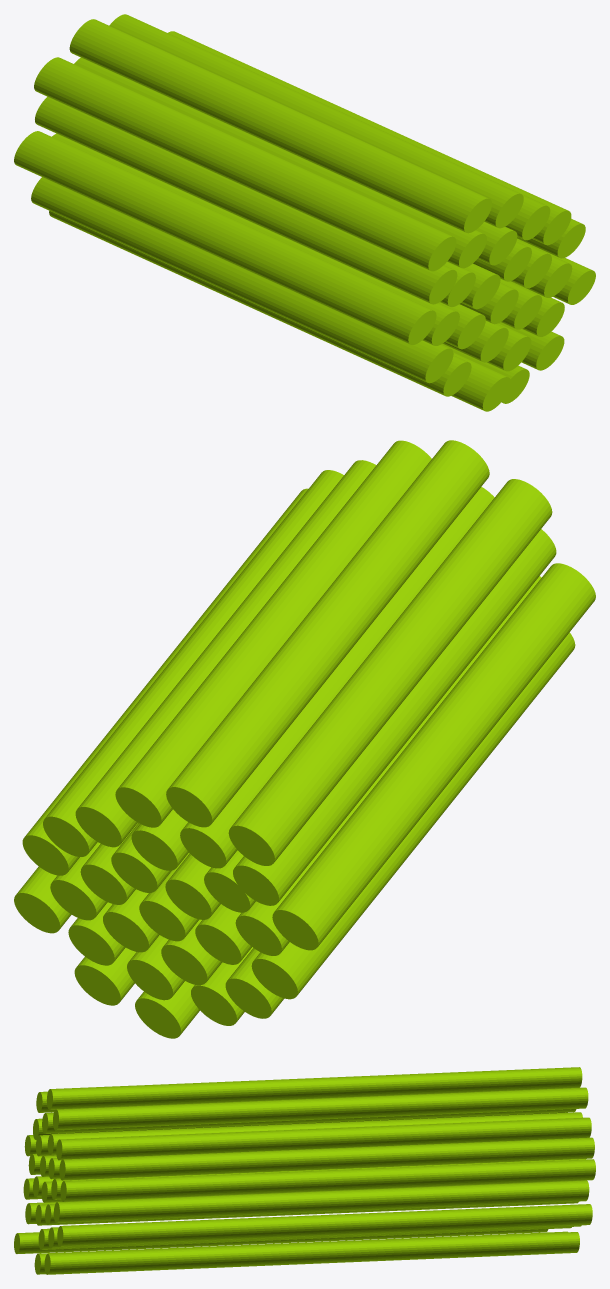
File: centrioles.dae
The picture shows the model from 3 angles, top to bottom: view 1: azimuth 30°, elevation 25°; view 2: azimuth 150°, elevation 25°; view 3: azimuth 270°, elevation 25°; orthographic projection. The views are drawn at different scales.
Visible parts, largest first — view 1: Cylinder_026, Cylinder_020, Cylinder_025, Cylinder_019, Cylinder_007, Cylinder_024, Cylinder_018, Cylinder_001, Cylinder_008, Cylinder_022, Cylinder, Cylinder_012 (+16 smaller); view 2: Cylinder_025, Cylinder_026, Cylinder_020, Cylinder_024, Cylinder_019, Cylinder_021, Cylinder_022, Cylinder_018, Cylinder_007, Cylinder_023, Cylinder_008, Cylinder_011 (+16 smaller); view 3: Cylinder_012, Cylinder_027, Cylinder_022, Cylinder_023, Cylinder_024, Cylinder_017, Cylinder_025, Cylinder_021, Cylinder_016, Cylinder, Cylinder_018, Cylinder_004 (+5 smaller).
Part boxes in pixels (x1=…): Cylinder_026: x1=34, y1=57, x2=456, y2=271; Cylinder_020: x1=14, y1=131, x2=436, y2=344; Cylinder_025: x1=69, y1=19, x2=492, y2=233; Cylinder_019: x1=35, y1=97, x2=457, y2=304; Cylinder_007: x1=31, y1=177, x2=453, y2=383; Cylinder_024: x1=109, y1=14, x2=523, y2=228; Cylinder_018: x1=74, y1=57, x2=486, y2=268; Cylinder_001: x1=49, y1=211, x2=471, y2=396; Cylinder_008: x1=52, y1=133, x2=459, y2=345; Cylinder_022: x1=168, y1=31, x2=571, y2=245; Cylinder: x1=451, y1=352, x2=510, y2=411; Cylinder_012: x1=499, y1=322, x2=564, y2=370; Cylinder_025: x1=166, y1=440, x2=489, y2=827; Cylinder_026: x1=228, y1=479, x2=552, y2=865; Cylinder_020: x1=272, y1=563, x2=595, y2=950; Cylinder_024: x1=115, y1=440, x2=431, y2=827; Cylinder_019: x1=233, y1=529, x2=556, y2=905; Cylinder_021: x1=75, y1=460, x2=376, y2=847; Cylinder_022: x1=43, y1=470, x2=343, y2=856; Cylinder_018: x1=180, y1=487, x2=494, y2=868; Cylinder_007: x1=251, y1=632, x2=575, y2=999; Cylinder_023: x1=22, y1=488, x2=308, y2=875; Cylinder_008: x1=235, y1=576, x2=541, y2=955; Cylinder_011: x1=135, y1=981, x2=199, y2=1038; Cylinder_012: x1=44, y1=1232, x2=579, y2=1274; Cylinder_027: x1=57, y1=1204, x2=592, y2=1246; Cylinder_022: x1=59, y1=1137, x2=594, y2=1180; Cylinder_023: x1=60, y1=1159, x2=595, y2=1201; Cylinder_024: x1=53, y1=1087, x2=588, y2=1130; Cylinder_017: x1=53, y1=1180, x2=589, y2=1223; Cylinder_025: x1=46, y1=1067, x2=582, y2=1109; Cylinder_021: x1=56, y1=1117, x2=591, y2=1160; Cylinder_016: x1=47, y1=1112, x2=582, y2=1154; Cylinder: x1=14, y1=1229, x2=548, y2=1253; Cylinder_018: x1=42, y1=1109, x2=576, y2=1133; Cylinder_004: x1=45, y1=1201, x2=578, y2=1225.
Size of the model in its own units: 0.3552 by 0.6791 by 0.2487.
